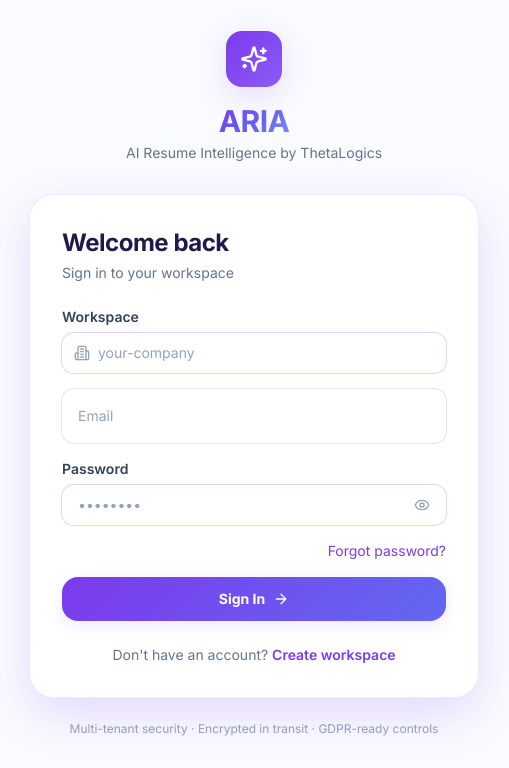
Test: LoginPage › shows an error message when login fails
In the field with placeholder "your-company": (254, 353) [62,333,446,373], type "acme"
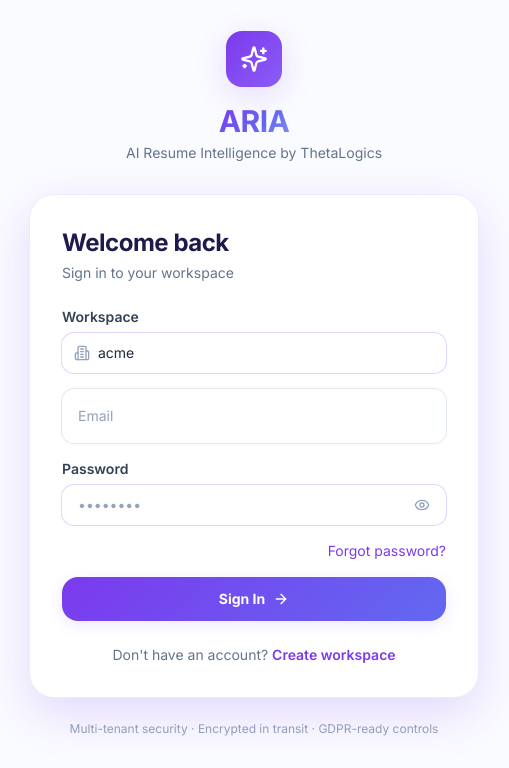
In the field labelled "Email": (254, 416) [62,389,446,443], type "hr@acme.com"
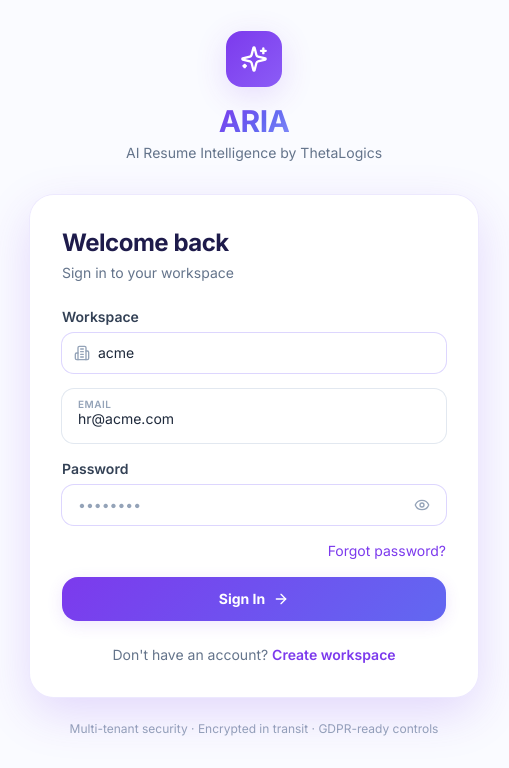
In the password field with placeholder "••••••••": (254, 505) [62,485,446,525], type "wrong"
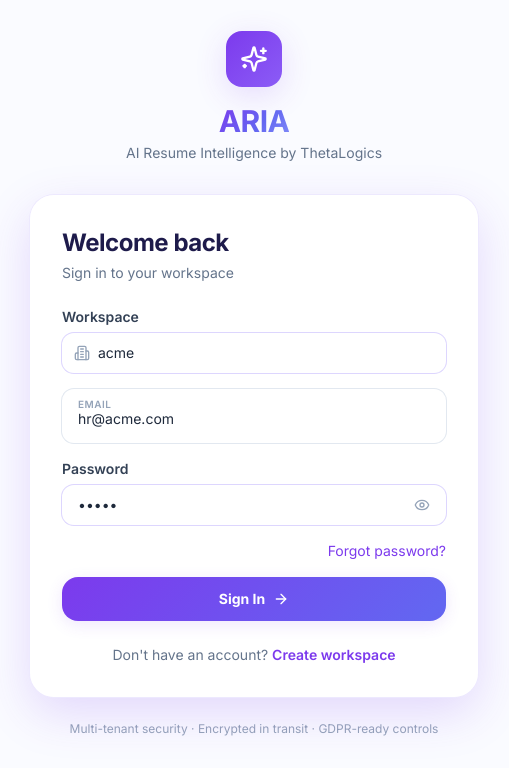
Click the button "Sign In": click(254, 599) [62,577,446,621]
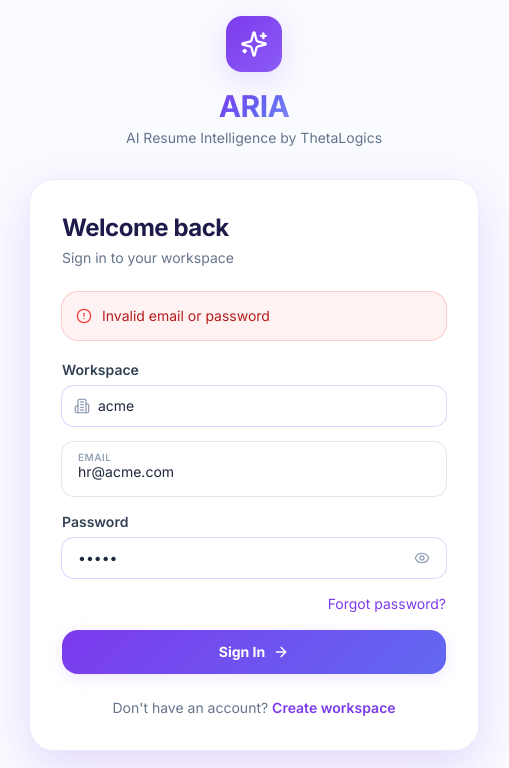
Expected: the text "Invalid email or password" is shown, [102,306,270,326]
